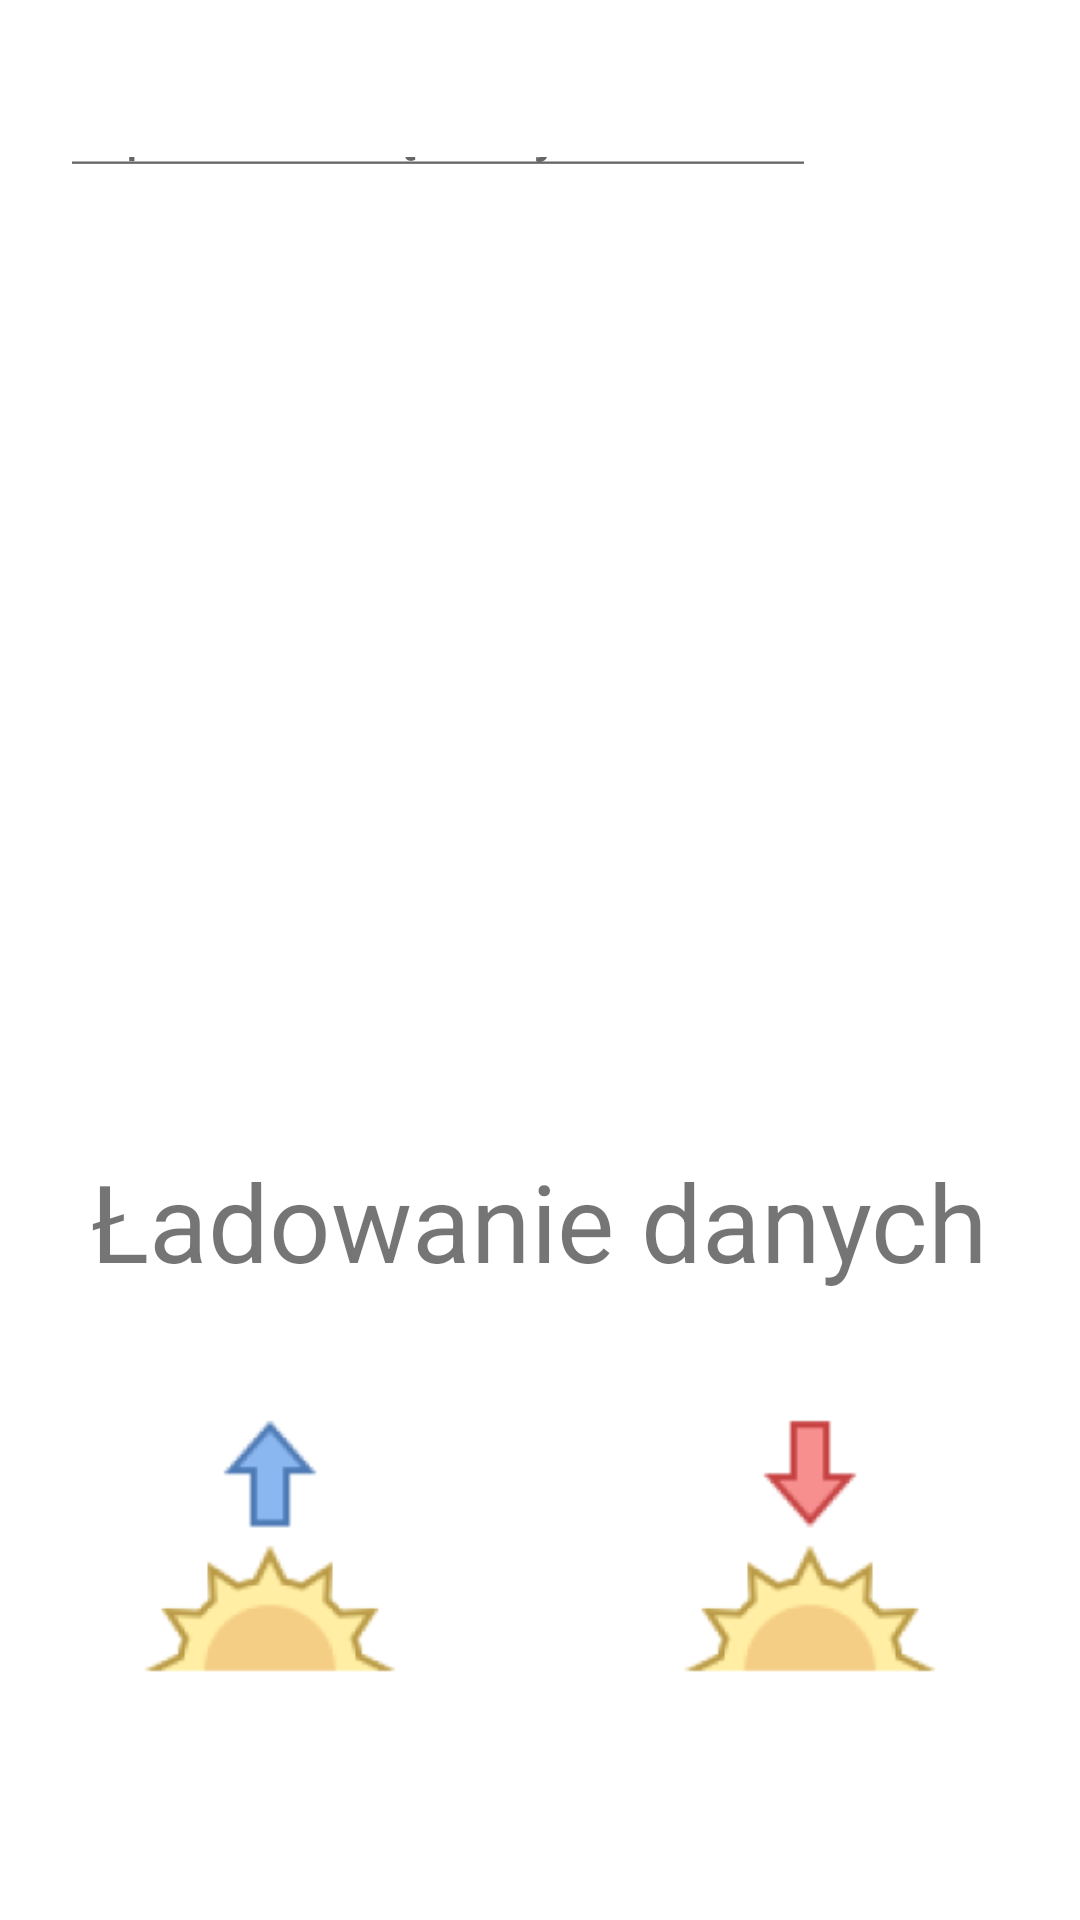

Named icons in this screenshot (1080px x 1920px) and their centers, [x,y]:
sunrise: [270,1546]
sunset: [810,1546]
